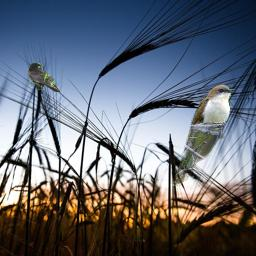Crow: (28, 63, 60, 92)
Cuckoo: (171, 83, 235, 186)
